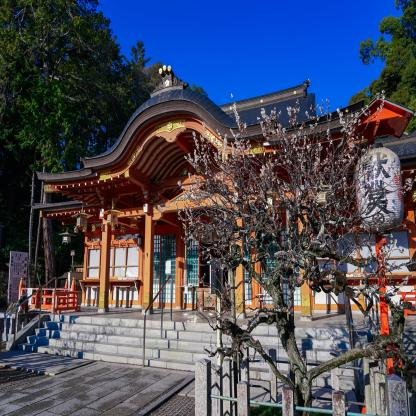Ume: (173, 89, 416, 360)
